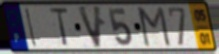5: (106, 7, 134, 47)
7: (166, 6, 188, 48)
I: (24, 7, 38, 49)
M: (137, 6, 173, 49)
T: (47, 7, 71, 48)
V: (75, 4, 104, 50)
